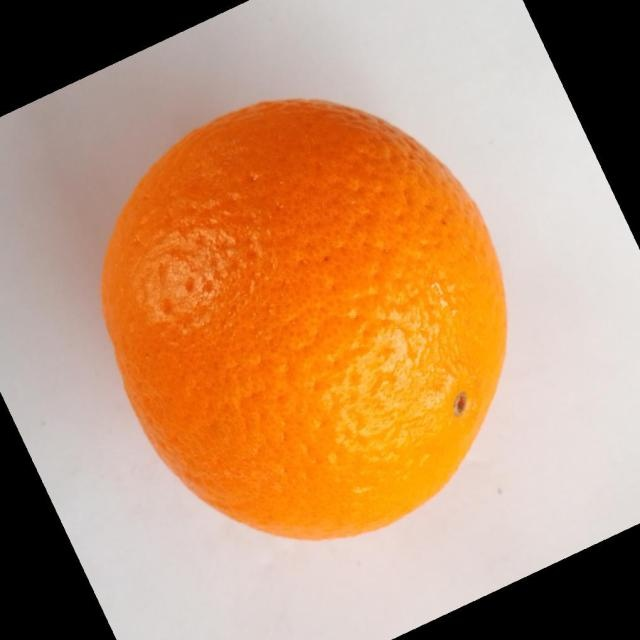agrume: (99, 96, 508, 541)
